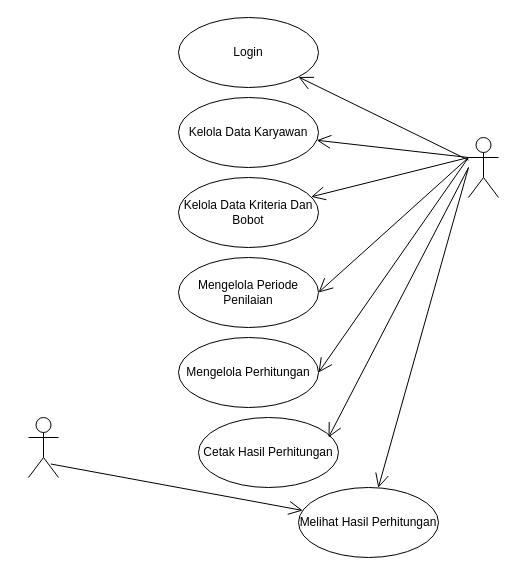
Some shapes in this 518 by 575 pixel diagram are drawn without their labels. Here are the shapes that lost their labels. From the top down, the centre of each, then its label:
At point 483,167: "Admin".
At point 43,447: "Karyawan".
